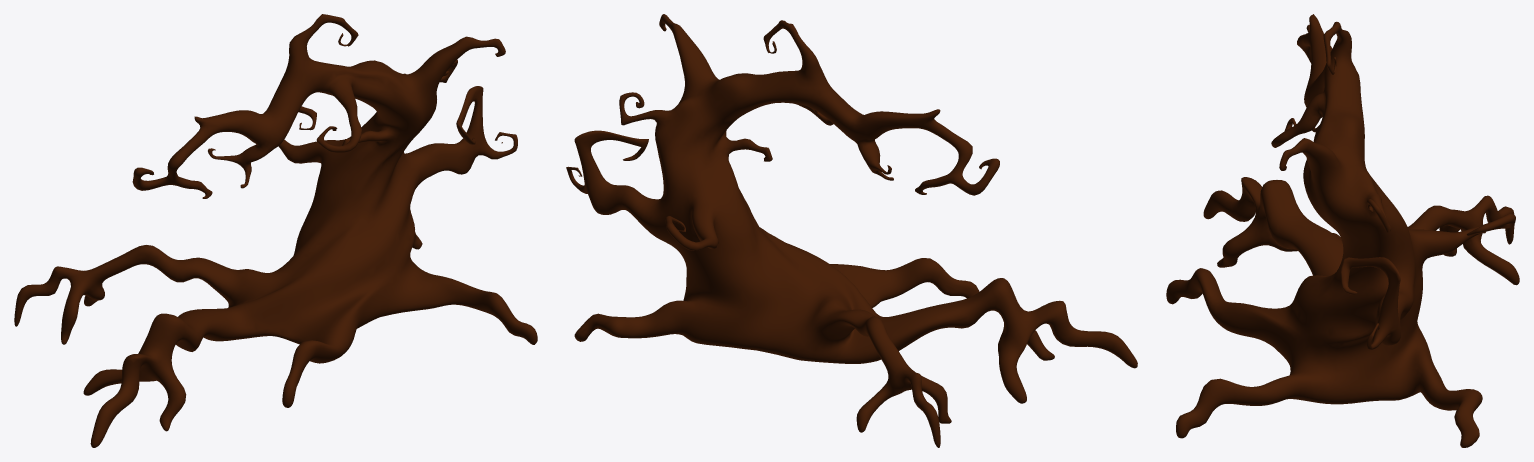
Rendered from Tree_15K.fbx.
3 renders of one model, left to right at view 1: azimuth 30°, elevation 25°; view 2: azimuth 150°, elevation 25°; view 3: azimuth 270°, elevation 25°, orthographic. The views are drawn at different scales.
Parts seen in each view (by area): view 1: Tree 15K; view 2: Tree 15K; view 3: Tree 15K.
Boxes of the visible parts, x1,y1,x2,y2 form: Tree 15K: (14, 14, 537, 447); Tree 15K: (566, 14, 1137, 447); Tree 15K: (1166, 14, 1519, 447).
Size of the model in its own units: 1114 by 694 by 622.
